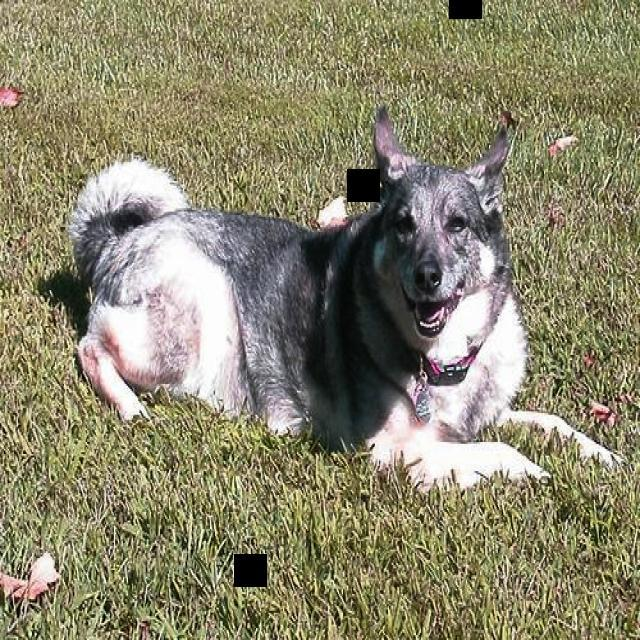adult_dog: (62, 104, 630, 492)
